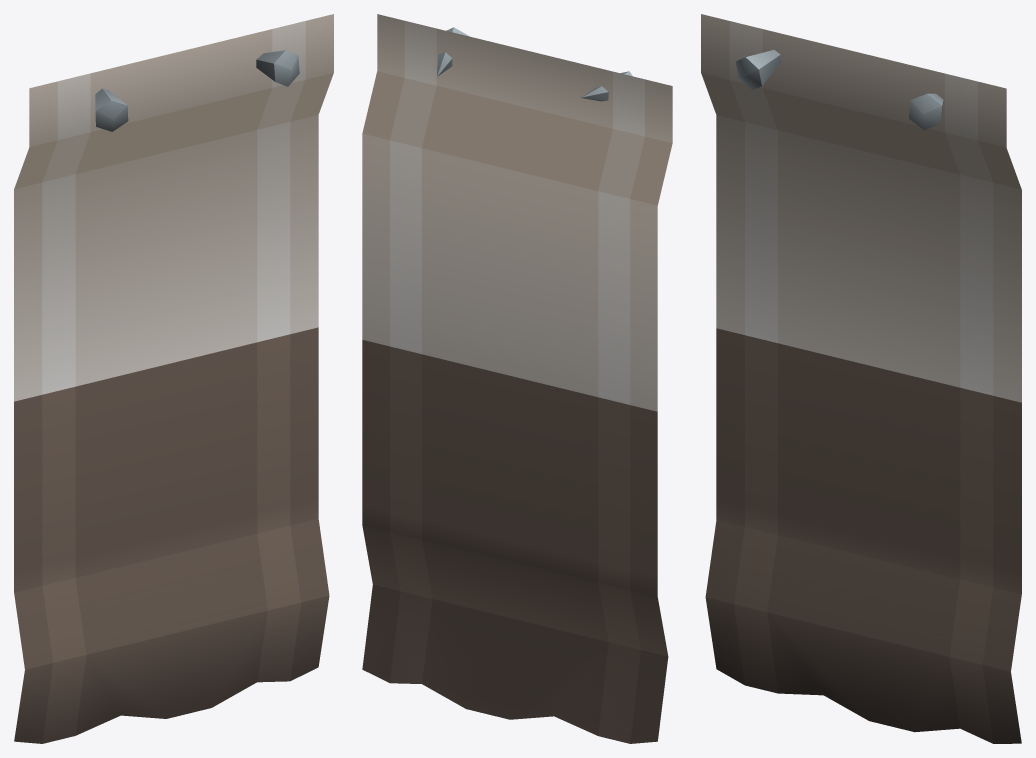
Rendered from banner_patternB_white.glb.
3 renders of one model, left to right at view 1: azimuth 30°, elevation 25°; view 2: azimuth 150°, elevation 25°; view 3: azimuth 330°, elevation 25°, orthographic. The views are drawn at different scales.
Parts seen in each view (by area): view 1: banner_patternB_white; view 2: banner_patternB_white; view 3: banner_patternB_white.
Boxes of the visible parts, x1=… form: banner_patternB_white: x1=14, y1=14, x2=333, y2=743; banner_patternB_white: x1=362, y1=14, x2=672, y2=743; banner_patternB_white: x1=701, y1=14, x2=1021, y2=743.
Size of the model in its own units: 1.5 by 3.2 by 0.3117.
1 material, 1 textured.
